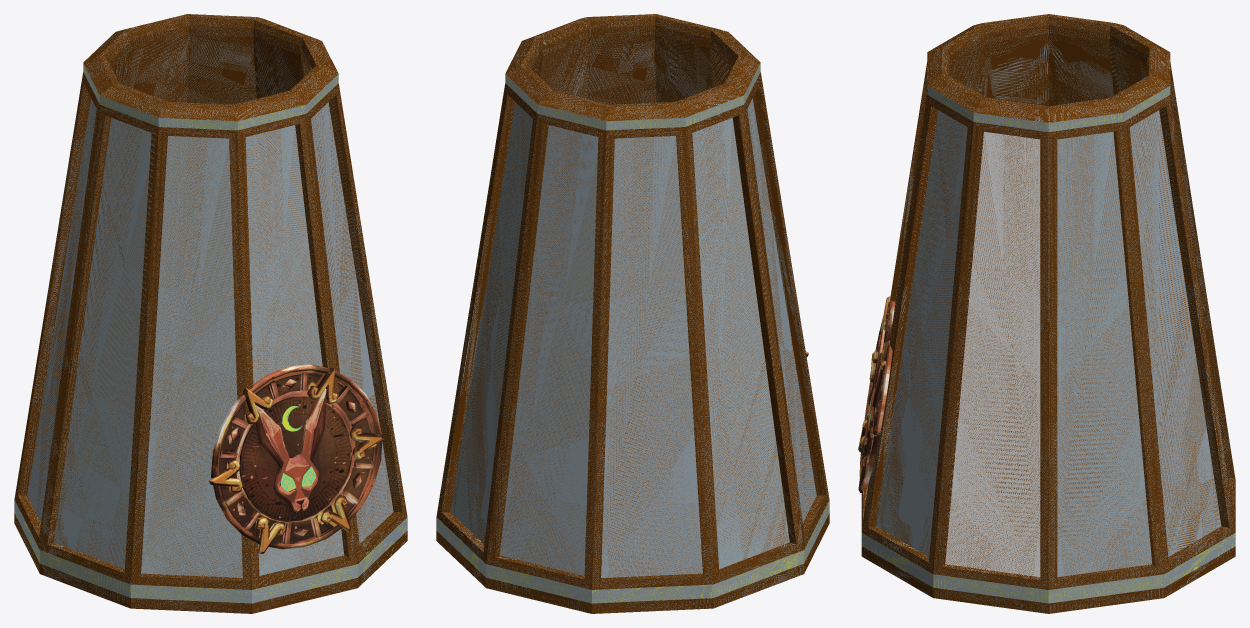
Rendered from wrist.fbx.
3 views of the same model, side by side, from view 1: azimuth 30°, elevation 25°; view 2: azimuth 150°, elevation 25°; view 3: azimuth 270°, elevation 25° (orthographic).
Visible parts, largest first — view 1: Group15, Group13, Group14, Group12, Group7, Group9, Group6, Group8, Group3; view 2: Group15; view 3: Group15, Group9, Group7, Group12.
Part boxes in pixels (left/top/right/bottom): Group15: left=14, top=14, right=407, bottom=613; Group13: left=239, top=396, right=350, bottom=521; Group14: left=215, top=370, right=376, bottom=543; Group12: left=255, top=388, right=326, bottom=512; Group7: left=209, top=368, right=383, bottom=553; Group9: left=211, top=364, right=382, bottom=549; Group6: left=219, top=372, right=374, bottom=543; Group8: left=237, top=390, right=355, bottom=522; Group3: left=280, top=406, right=315, bottom=491; Group15: left=436, top=14, right=829, bottom=613; Group15: left=861, top=14, right=1235, bottom=613; Group9: left=859, top=301, right=895, bottom=486; Group7: left=858, top=296, right=890, bottom=492; Group12: left=864, top=328, right=885, bottom=444.
Size of the model in its own units: 253 by 333 by 243.
